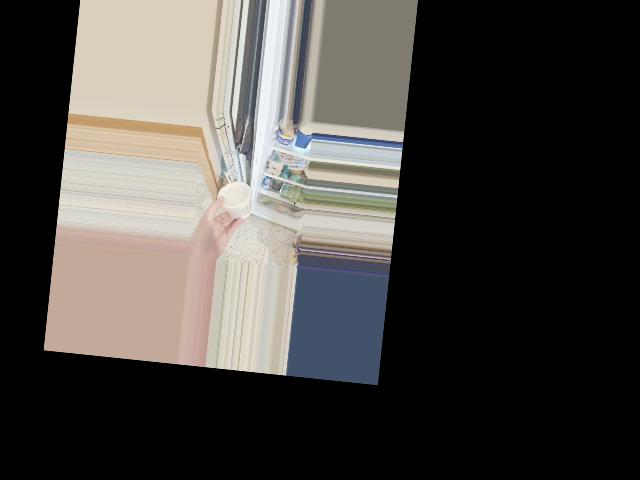cotage: (211, 180, 253, 223)
